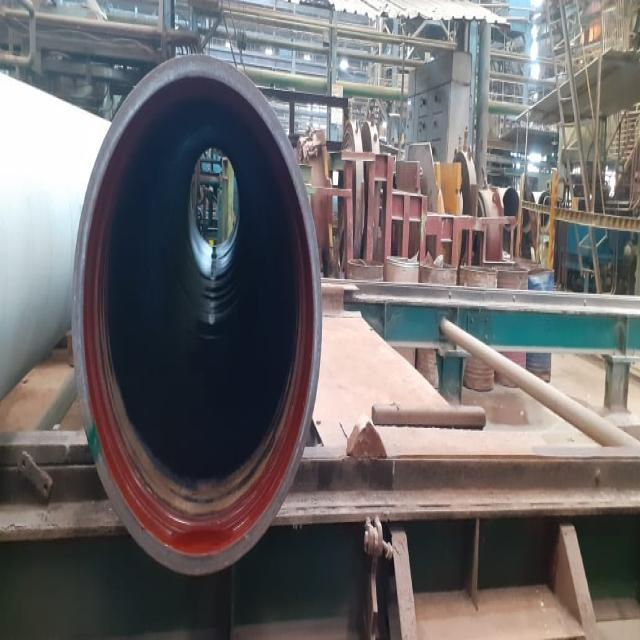pipe: (79, 32, 318, 579)
